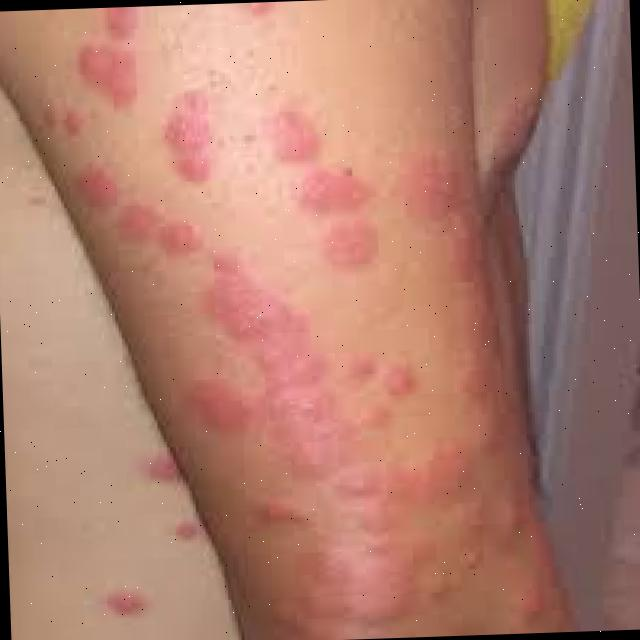kan emici bocekler: (205, 259, 339, 472), (439, 217, 516, 445), (331, 462, 425, 624), (494, 512, 571, 635), (306, 168, 377, 265), (161, 98, 223, 183), (125, 205, 201, 261), (420, 443, 483, 508), (78, 46, 145, 105), (405, 161, 465, 218), (271, 108, 317, 156), (69, 164, 119, 208), (255, 490, 308, 530), (102, 7, 150, 36), (361, 402, 400, 433), (385, 365, 418, 397), (352, 359, 374, 379)
